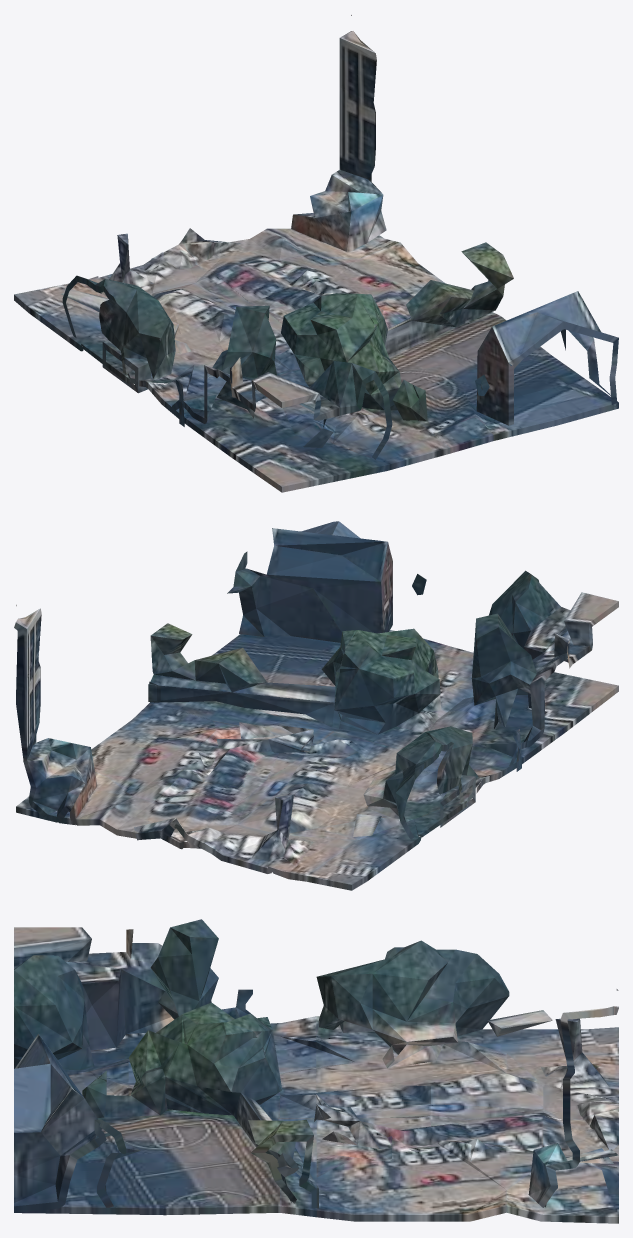
Rendered from chunk_4_0.glb.
The picture shows the model from 3 angles, top to bottom: view 1: azimuth 30°, elevation 25°; view 2: azimuth 150°, elevation 25°; view 3: azimuth 270°, elevation 25°; orthographic projection. The views are drawn at different scales.
Visible parts, largest first — view 1: hero-chunk; view 2: hero-chunk; view 3: hero-chunk.
Boxes of the visible parts, left/top/right/bottom form: hero-chunk: left=14, top=15, right=618, bottom=492; hero-chunk: left=14, top=521, right=618, bottom=890; hero-chunk: left=14, top=919, right=618, bottom=1223.
Bounding box in the file's own units: 55.73 × 32.79 × 76.32.
2 materials, 2 textured.
